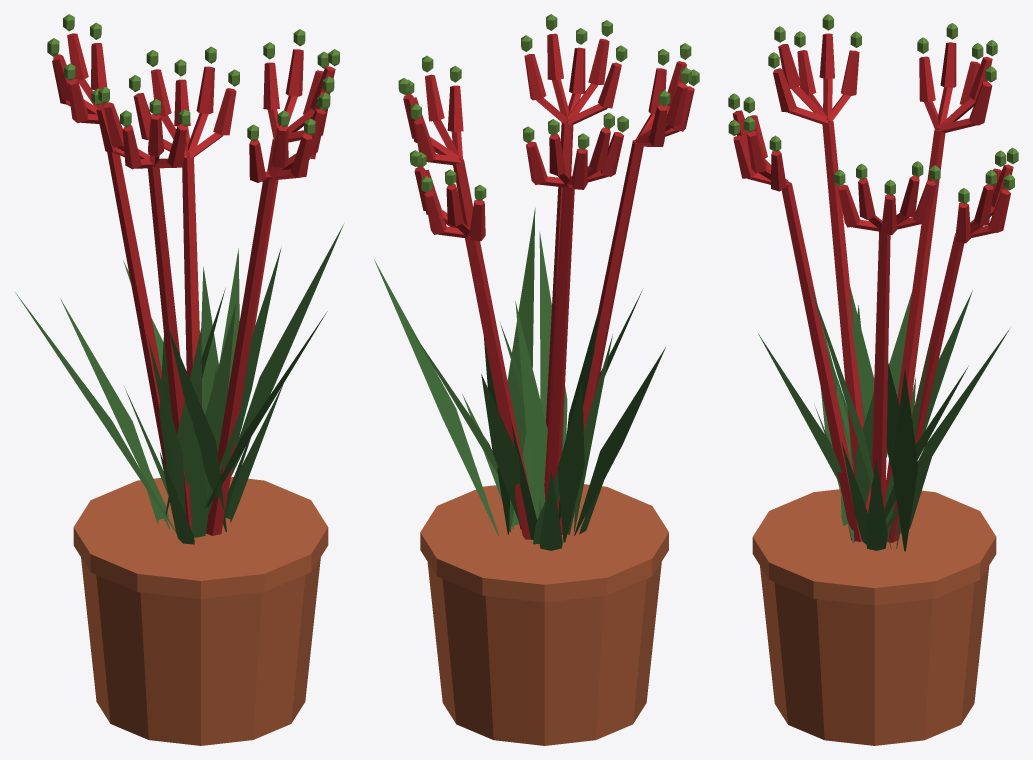
File: kangaroo_paw.glb
3 views of the same model, side by side, from view 1: azimuth 30°, elevation 25°; view 2: azimuth 150°, elevation 25°; view 3: azimuth 270°, elevation 25° (orthographic). The views are drawn at different scales.
Parts seen in each view (by area): view 1: Stage_3, Stage_2; view 2: Stage_3, Stage_2; view 3: Stage_3, Stage_2.
Part boxes in pixels (box(x1,y1,x2,y2)): Stage_3: box(15, 14, 343, 745); Stage_2: box(124, 365, 283, 544); Stage_3: box(374, 14, 699, 745); Stage_2: box(462, 394, 603, 550); Stage_3: box(728, 14, 1018, 745); Stage_2: box(814, 377, 931, 550).
Size of the model in its own units: 0.4535 by 0.9102 by 0.3777.
